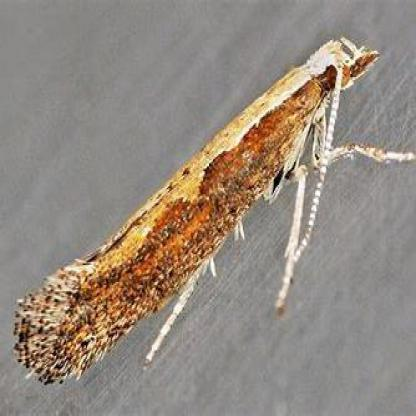plutella: (10, 33, 415, 394)
